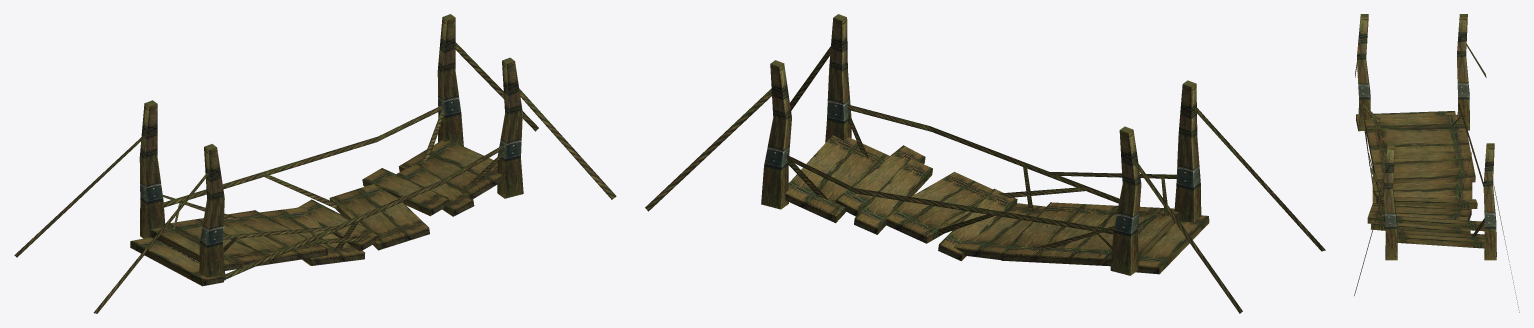
Rendered from hyc_qiao03.FBX.
The picture shows the model from 3 angles, left to right: view 1: azimuth 30°, elevation 25°; view 2: azimuth 150°, elevation 25°; view 3: azimuth 270°, elevation 25°; orthographic projection. The views are drawn at different scales.
Visible parts, largest first — view 1: hyc_qiao03; view 2: hyc_qiao03; view 3: hyc_qiao03.
Boxes of the visible parts, x1=… form: hyc_qiao03: x1=14, y1=14, x2=616, y2=313; hyc_qiao03: x1=645, y1=14, x2=1325, y2=313; hyc_qiao03: x1=1354, y1=14, x2=1519, y2=312.
Bounding box in the file's own units: 1649 × 451 × 522.
